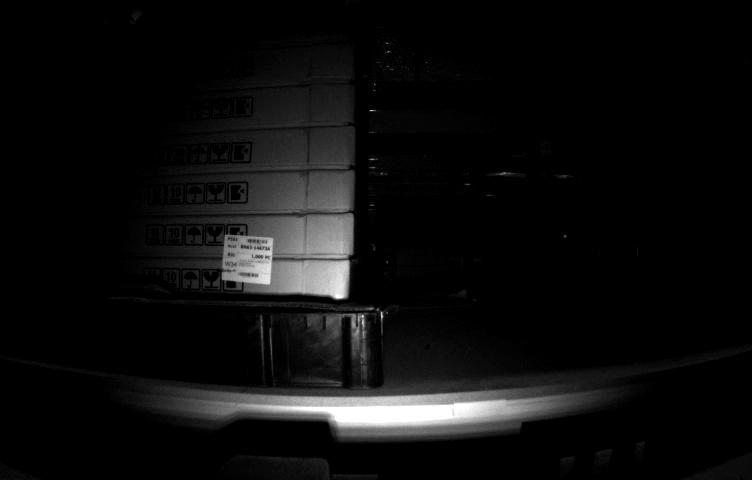True Barcode: (216, 232, 283, 288)
